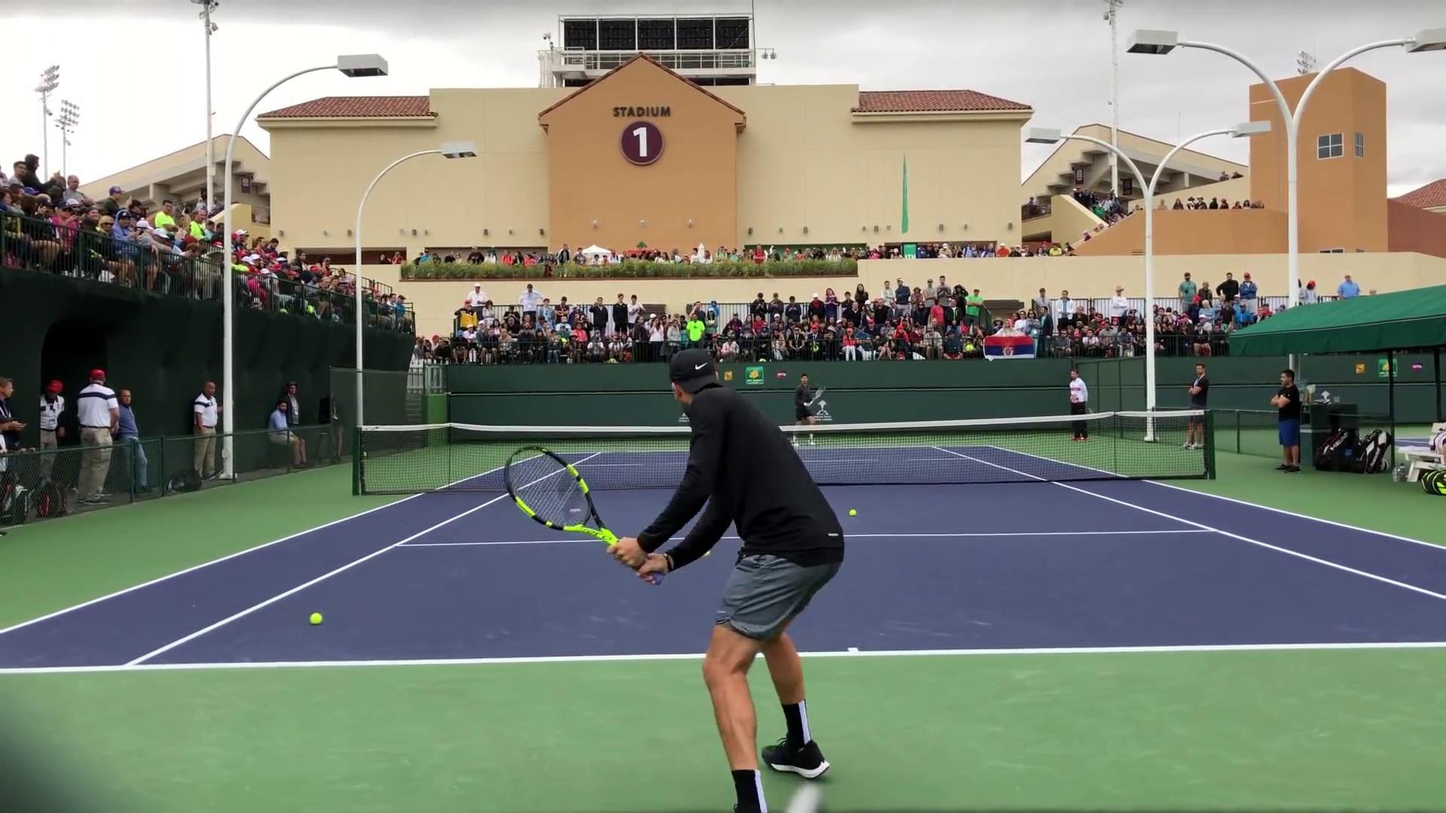ball: (310, 612, 322, 625), (849, 509, 857, 516)
